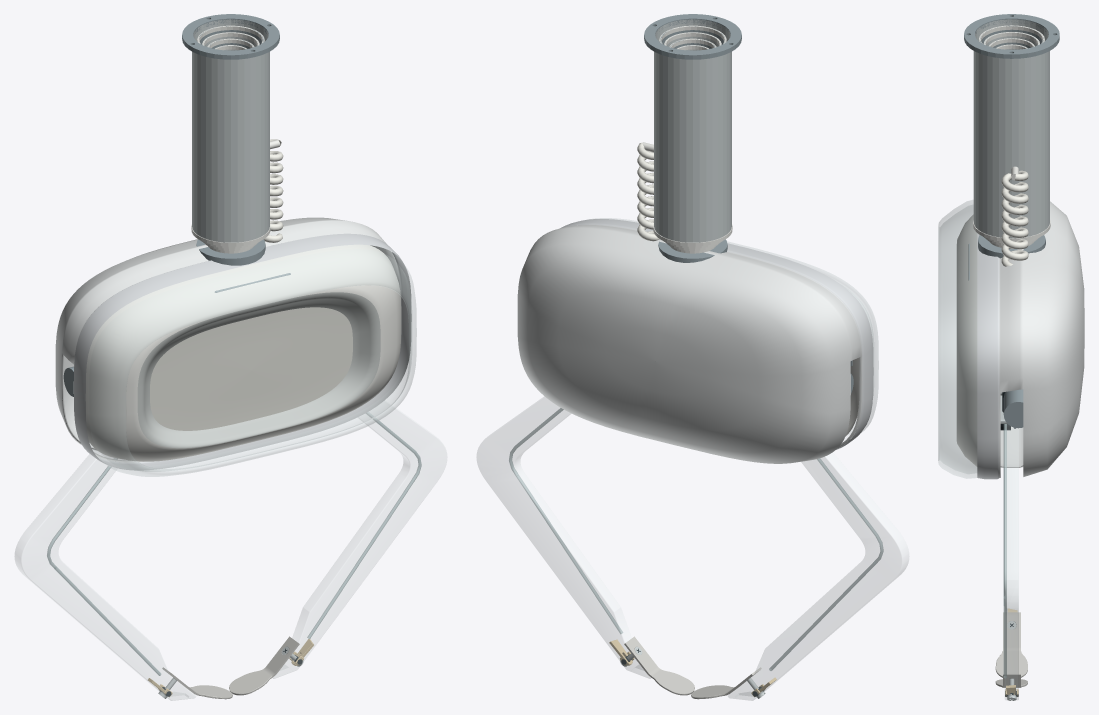
File: arm-head-DPvWG-m0.glb
3 renders of one model, left to right at view 1: azimuth 30°, elevation 25°; view 2: azimuth 150°, elevation 25°; view 3: azimuth 270°, elevation 25°, orthographic. The views are drawn at different scales.
Parts seen in each view (by area): view 1: FrontBezel, FrontWindow, FaceInsert, UpperSleeve, AcrylicArm_L, AcrylicArm_R, InnerLip, ReflectiveBand, CurvedShell, PipeEFlange, CordTurns, MountFlange (+2 smaller); view 2: CurvedShell, UpperSleeve, AcrylicArm_R, AcrylicArm_L, ReflectiveBand, PipeEFlange, CordTurns, FrontWindow, MountFlange, Shovel_R, ArmRibLower_R; view 3: CurvedShell, UpperSleeve, FrontWindow, ReflectiveBand, FrontBezel, AcrylicArm_R, CordTurns, PipeEFlange, AcrylicArm_L, MotorCan_R, ArmRibUpper_R, Shovel_L (+6 smaller).
Boxes of the visible parts, <box> form: FrontBezel: <box>85,244,401,461</box>; FrontWindow: <box>86,245,416,476</box>; FaceInsert: <box>150,307,352,430</box>; UpperSleeve: <box>192,19,269,242</box>; AcrylicArm_L: <box>14,449,195,700</box>; AcrylicArm_R: <box>273,401,447,678</box>; InnerLip: <box>137,292,380,448</box>; ReflectiveBand: <box>74,233,411,470</box>; CurvedShell: <box>55,217,400,462</box>; PipeEFlange: <box>182,14,279,59</box>; CordTurns: <box>264,139,283,242</box>; MountFlange: <box>196,239,265,265</box>; CurvedShell: <box>517,224,862,463</box>; UpperSleeve: <box>654,19,731,242</box>; AcrylicArm_R: <box>476,396,650,678</box>; AcrylicArm_L: <box>728,453,909,700</box>; ReflectiveBand: <box>560,219,873,449</box>; PipeEFlange: <box>644,14,741,59</box>; CordTurns: <box>637,142,659,241</box>; FrontWindow: <box>595,218,878,441</box>; MountFlange: <box>658,239,727,262</box>; Shovel_R: <box>651,669,694,695</box>; ArmRibLower_R: <box>516,475,622,633</box>; CurvedShell: <box>999,201,1084,477</box>; UpperSleeve: <box>973,19,1049,238</box>; FrontWindow: <box>938,200,977,478</box>; ReflectiveBand: <box>977,233,999,479</box>; FrontBezel: <box>956,214,977,466</box>; AcrylicArm_R: <box>1005,424,1018,699</box>; CordTurns: <box>1001,170,1028,266</box>; PipeEFlange: <box>964,14,1059,58</box>; AcrylicArm_L: <box>1007,468,1018,611</box>; MotorCan_R: <box>1003,389,1023,428</box>; ArmRibUpper_R: <box>1003,424,1006,598</box>; Shovel_L: <box>995,651,1027,677</box>.
Size of the model in its own units: 0.2983 by 0.4403 by 0.0905.
